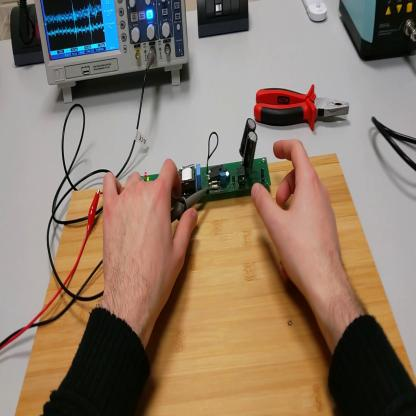hand: (100, 150, 200, 344), (251, 139, 346, 317)
high voltage board: (99, 118, 272, 200)
oscilloscope: (35, 2, 190, 108)
oscilloscope probe tip: (171, 178, 213, 221)
pliers: (256, 82, 352, 132)
socket: (10, 5, 45, 70)
welder station: (339, 1, 416, 66)
working area: (16, 150, 416, 416)
